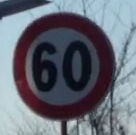limite 60: (10, 12, 116, 121)
